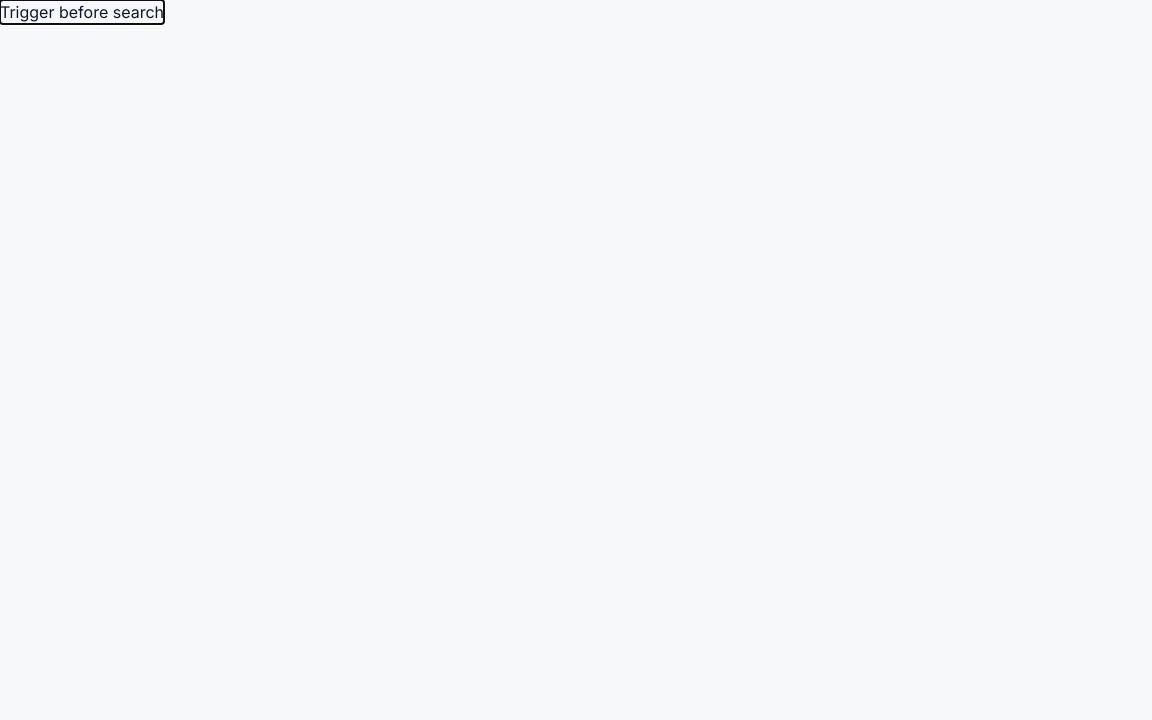
it: GlobalSearch › exposes a keyboard combobox with aria-activedescendant, polite count announcements, and focus restoration on Escape
The image size is (1152, 720).
Type keys "{Meta>}k{/Meta}"
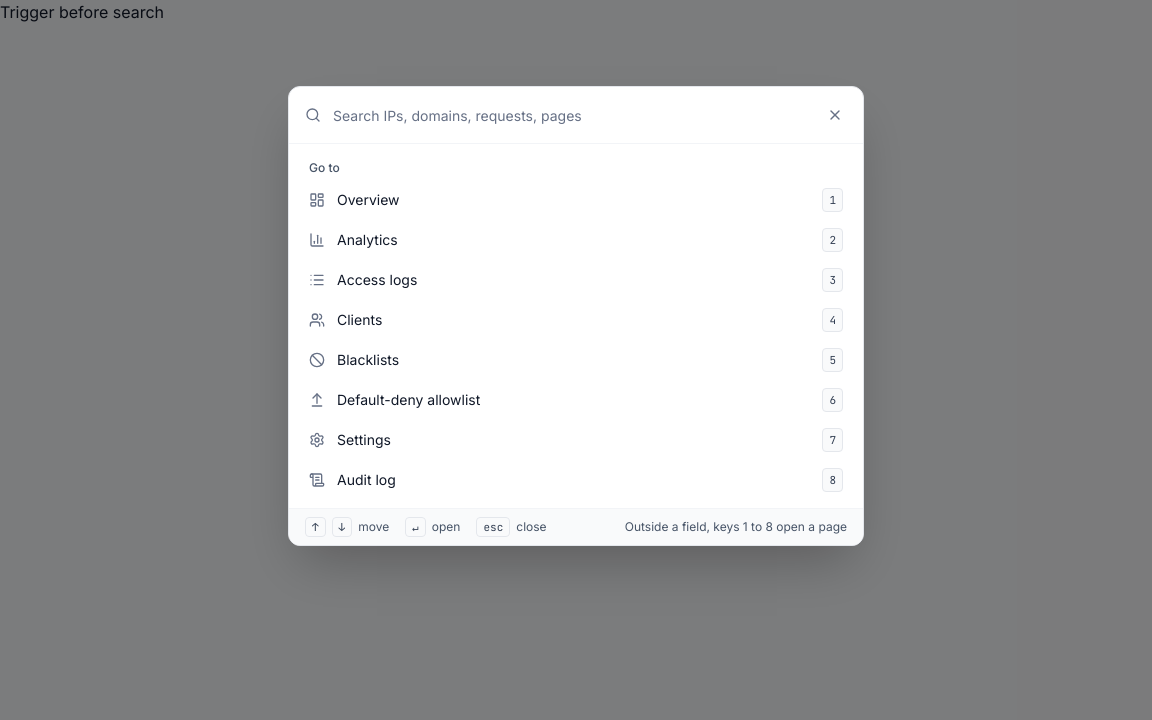
Type "al" into the dropdown labelled "Search IPs, domains, requests, pages" at point(572, 115), box x1=333 y1=99 x2=811 y2=131
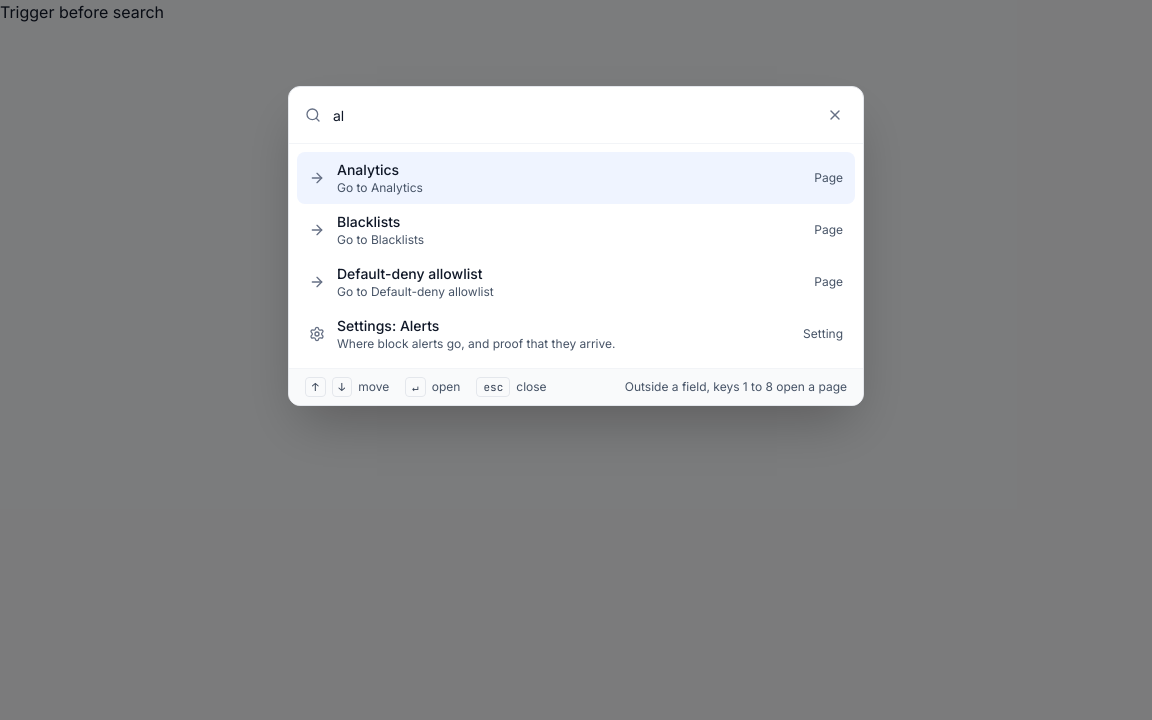
Now the dropdown named "Search IPs, domains, requests, pages" is expanded, box x1=333 y1=99 x2=811 y2=131
Press Arrowdown
Press Arrowup
Replace the text in the dropdown named "Search IPs, domains, requests, pages" with "zzzznonexistent" at point(572, 115), box x1=333 y1=99 x2=811 y2=131
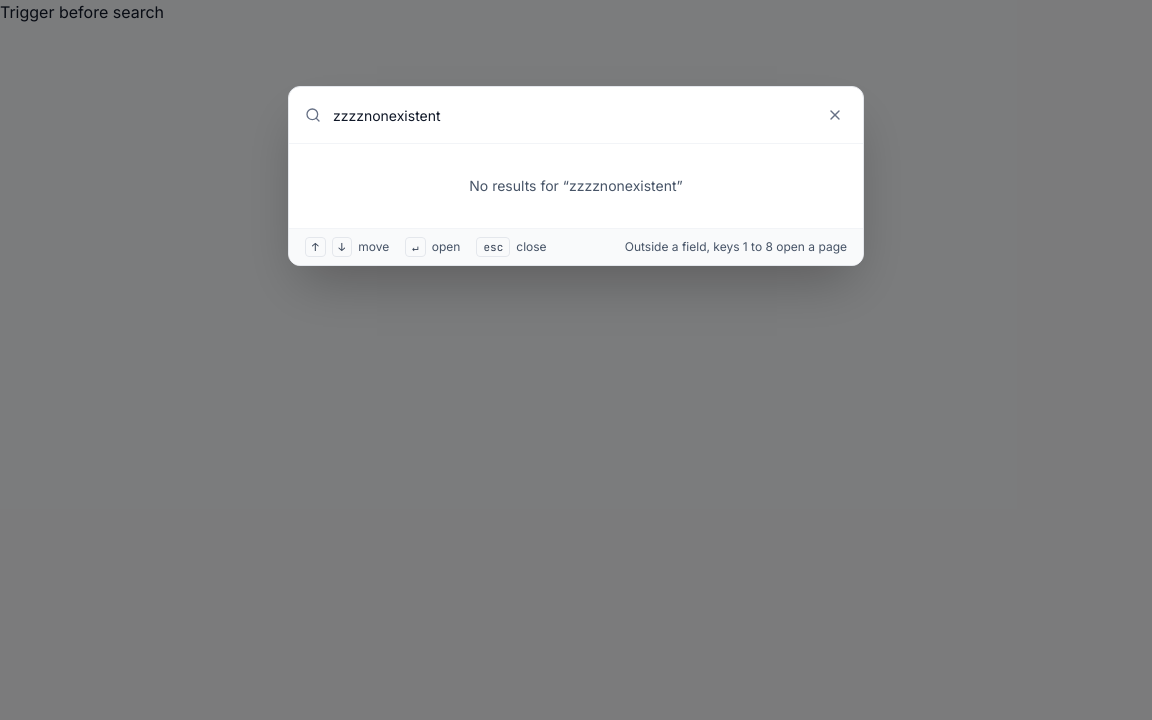
Press Escape
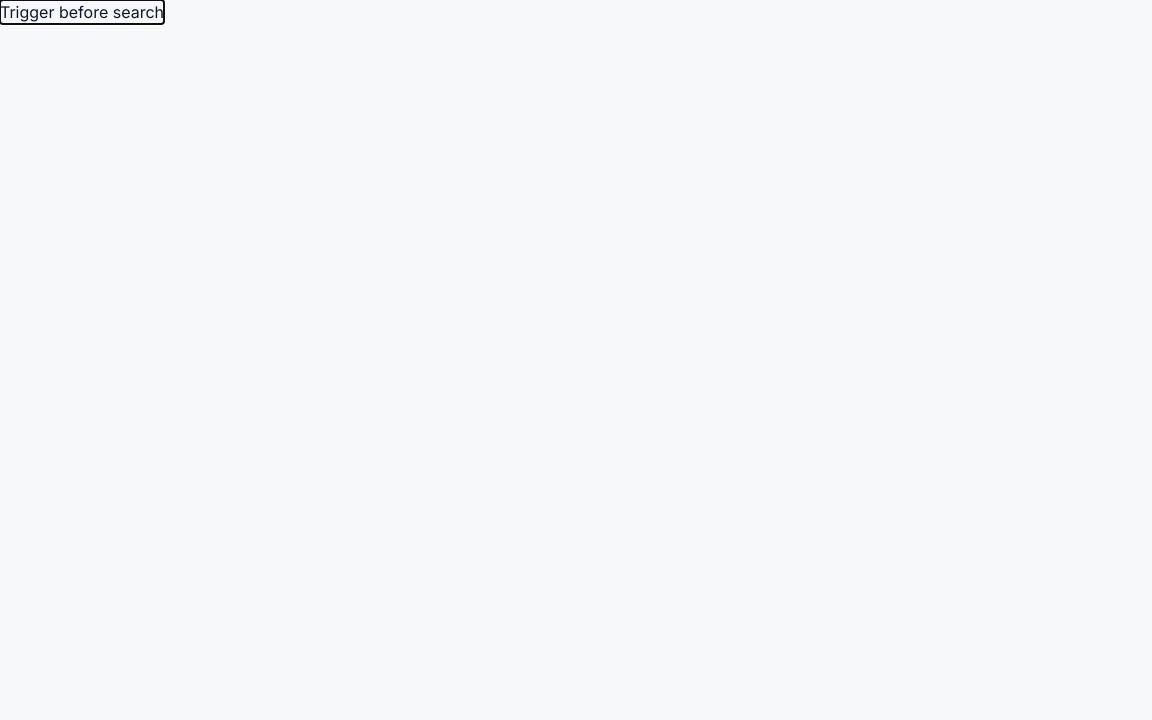
Now the dialog is gone
